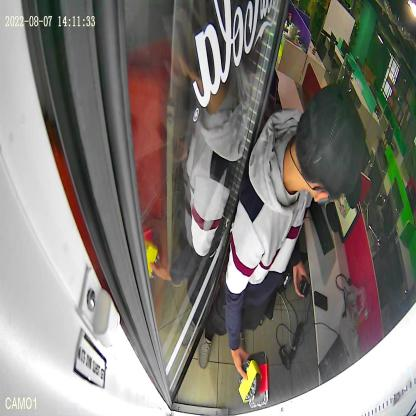red: (248, 352, 270, 407)
yellow: (238, 359, 262, 404)
